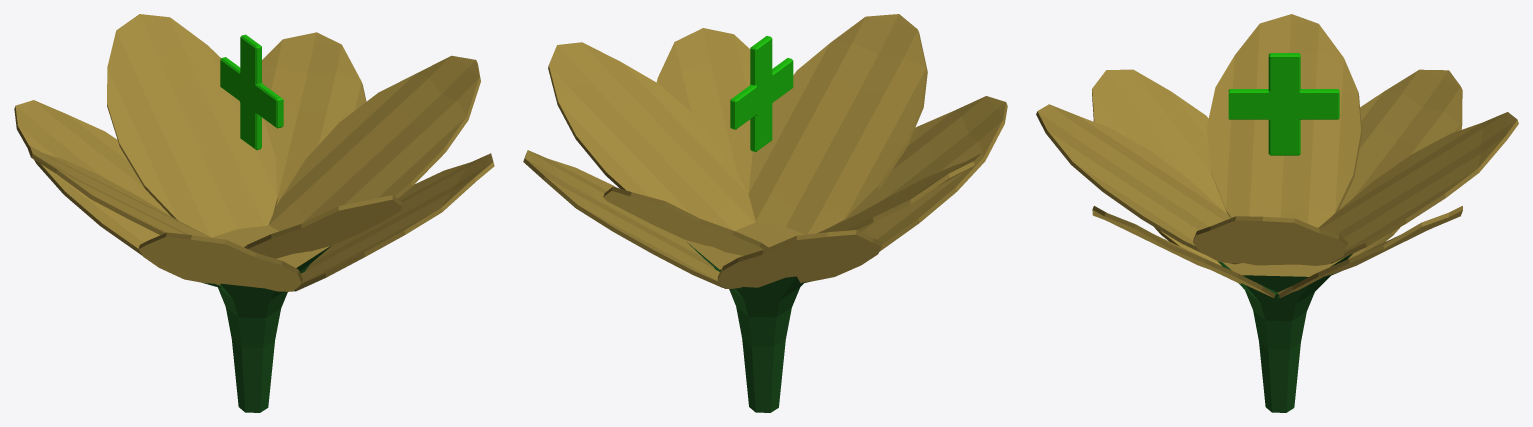
File: Flower.fbx
3 views of the same model, side by side, from view 1: azimuth 30°, elevation 25°; view 2: azimuth 150°, elevation 25°; view 3: azimuth 270°, elevation 25° (orthographic). The views are drawn at different scales.
Visible parts, largest first — view 1: Cylinder, Cube; view 2: Cylinder, Cube; view 3: Cylinder, Cube.
Part boxes in pixels (left/top/right/bottom): Cylinder: left=14, top=14, right=494, bottom=412; Cube: left=220, top=34, right=283, bottom=150; Cylinder: left=523, top=14, right=1007, bottom=412; Cube: left=730, top=36, right=793, bottom=151; Cylinder: left=1036, top=14, right=1518, bottom=412; Cube: left=1228, top=53, right=1339, bottom=155.
Bounding box in the file's own units: 624 × 505 × 625.
